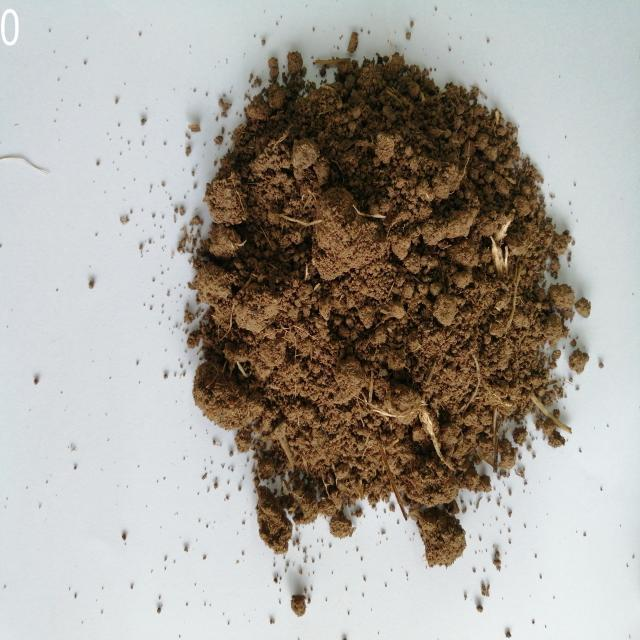soil: (256, 147, 502, 441)
